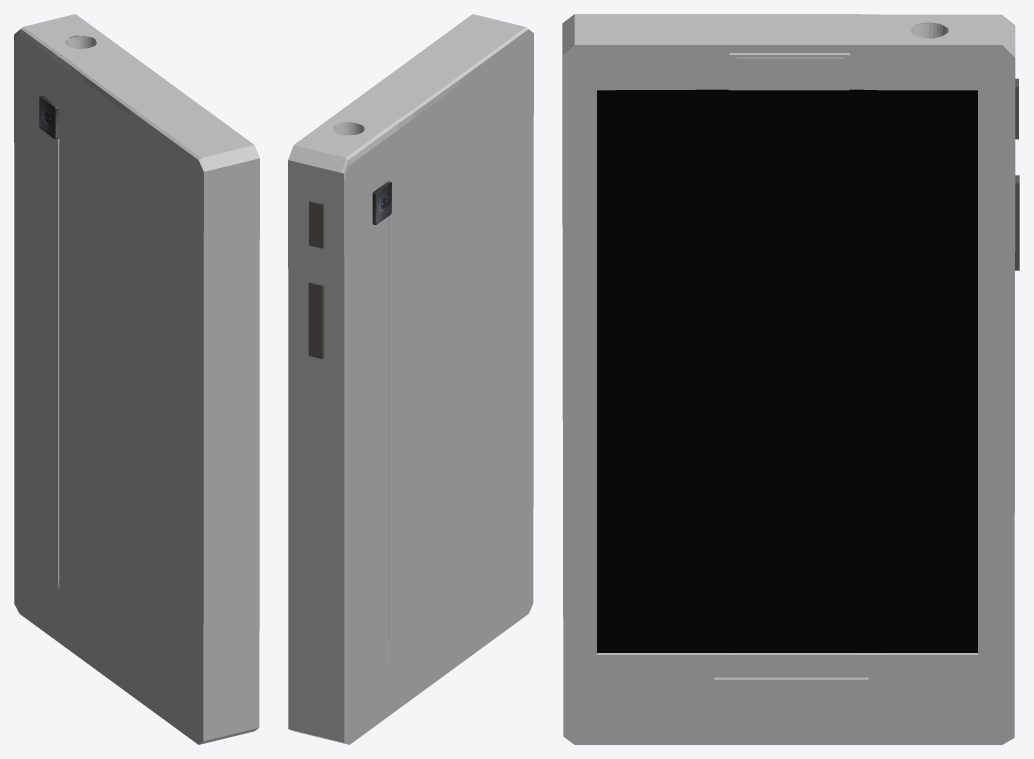
Rendered from LowPolyPhone.fbx.
3 views of the same model, side by side, from view 1: azimuth 30°, elevation 25°; view 2: azimuth 150°, elevation 25°; view 3: azimuth 270°, elevation 25° (orthographic). The views are drawn at different scales.
Visible parts, largest first — view 1: Body, Camera; view 2: Body, Buttons, Camera; view 3: Screen, Body.
Part boxes in pixels (<box>): Body: <box>14,14,259,744</box>; Camera: <box>39,95,58,139</box>; Body: <box>288,14,533,744</box>; Buttons: <box>308,200,324,359</box>; Camera: <box>372,181,391,224</box>; Screen: <box>597,89,977,652</box>; Body: <box>562,14,1015,744</box>.
Size of the model in its own units: 22.75 by 200 by 118.
